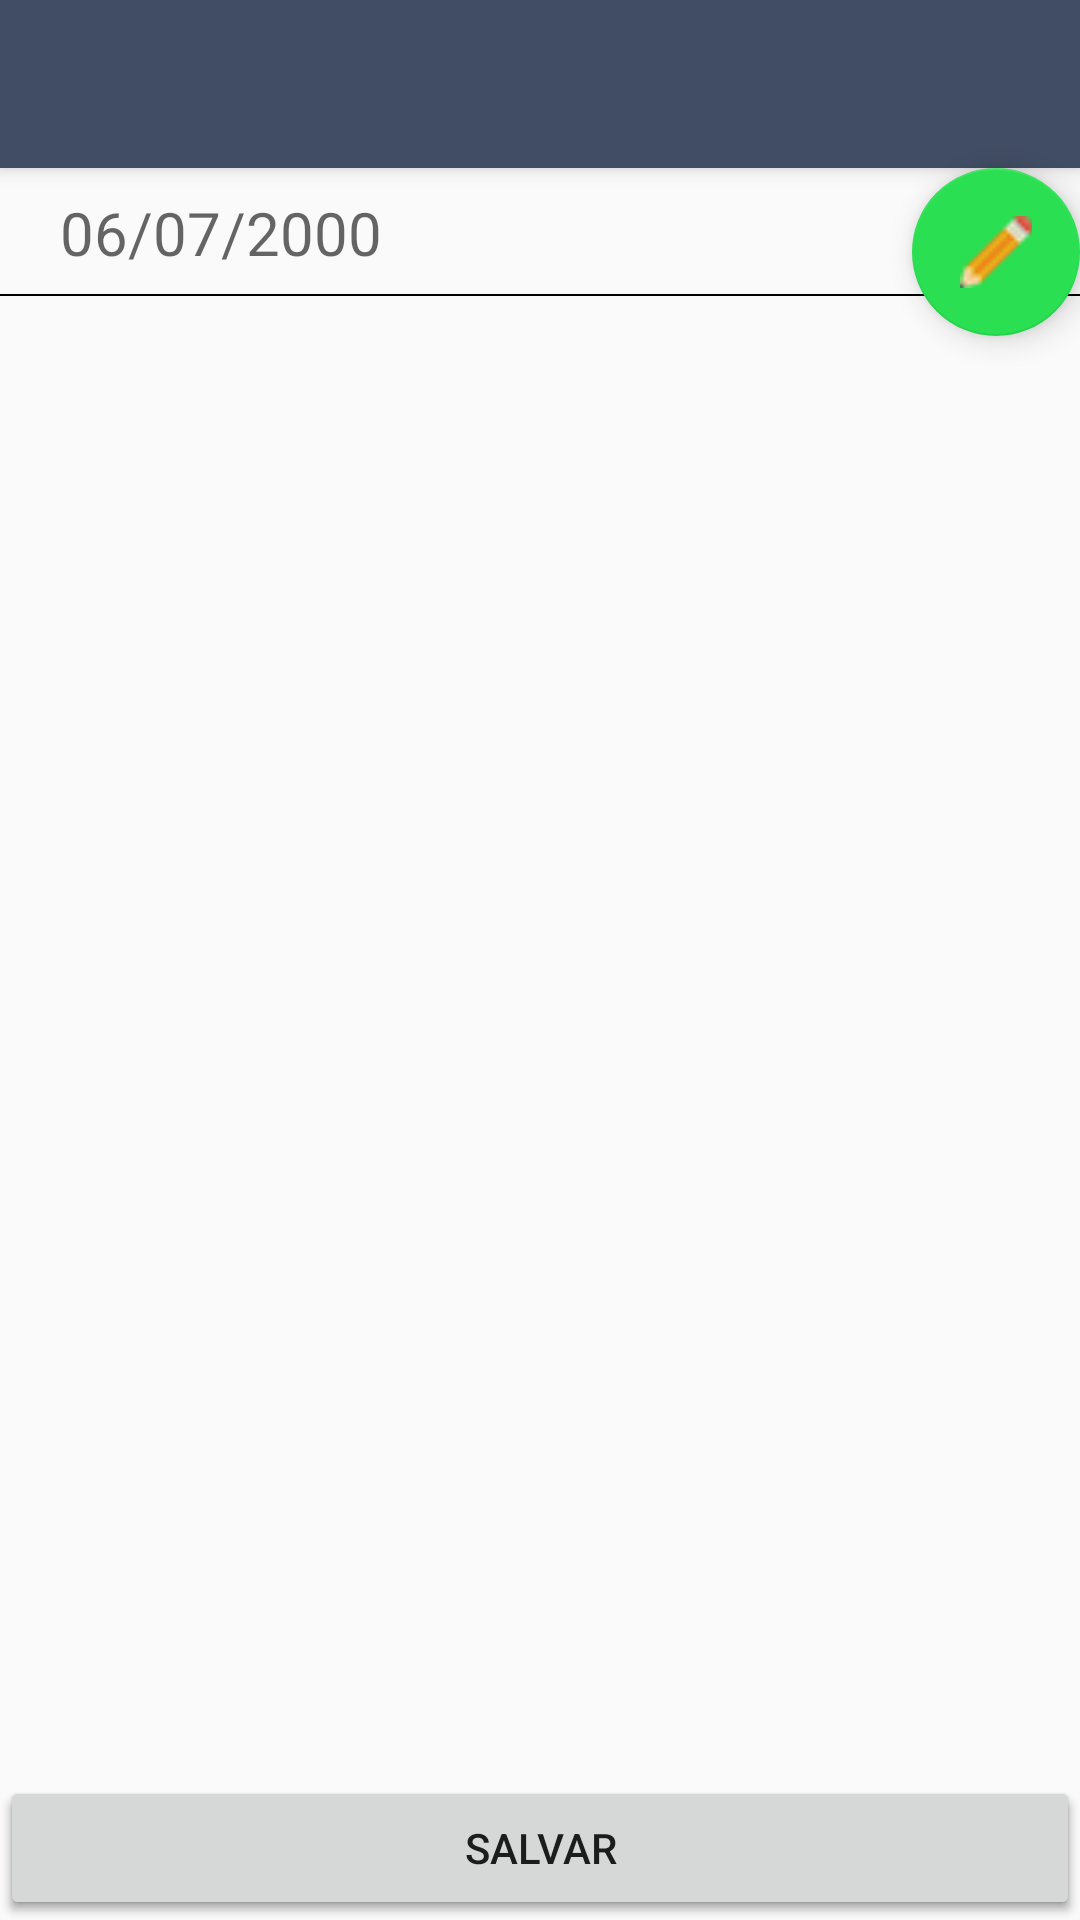

Point at icon controls on the screen. Image size 1080px×1920px, points as point (x, y).
lapis buttom: point (996, 252)
